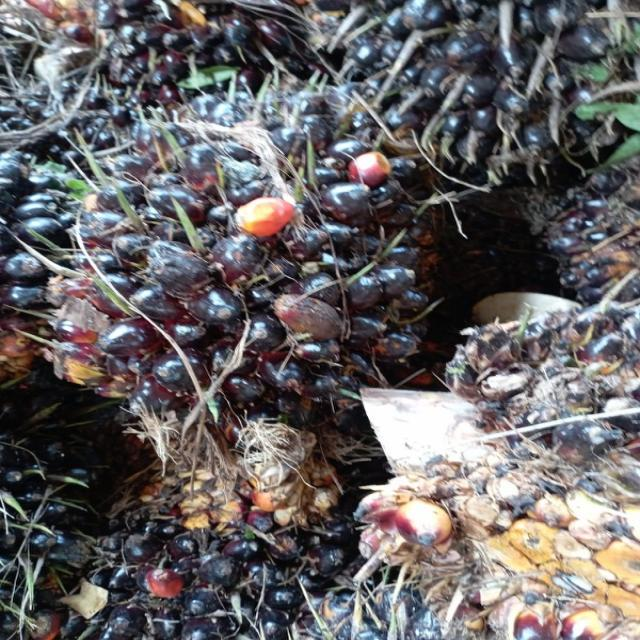fraksi 00: (67, 82, 424, 414), (343, 0, 612, 180)
